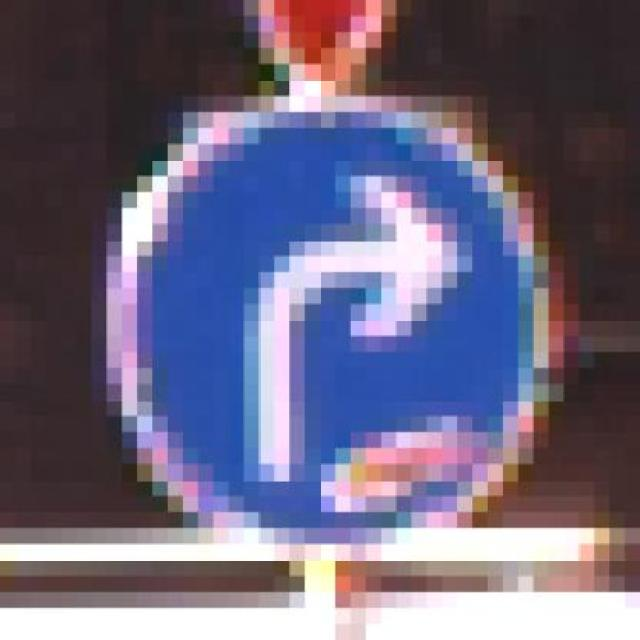Turn right ahead: (76, 65, 579, 560)
